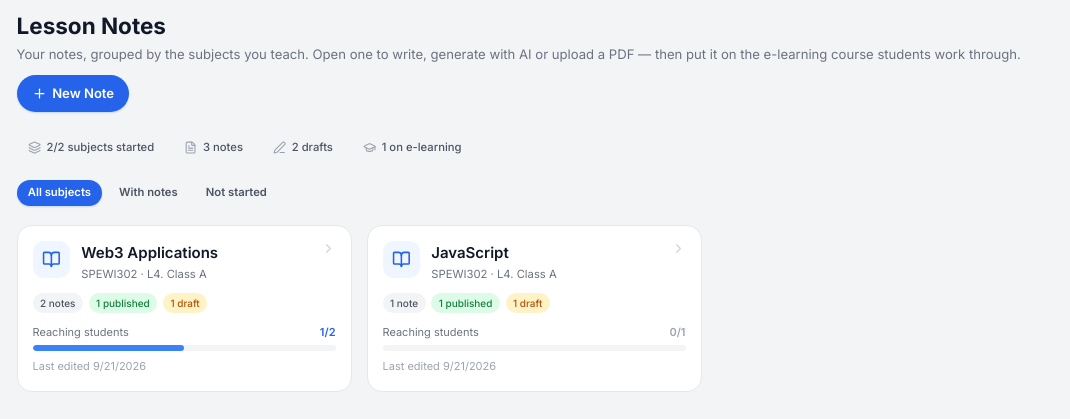
Test: LessonNotesListPage — subject-first browsing and e-learning linkage › says whether placed notes actually reach students, and why not
Click the heading "Web3 Applications" at (150, 252), box x1=81 y1=243 x2=218 y2=262
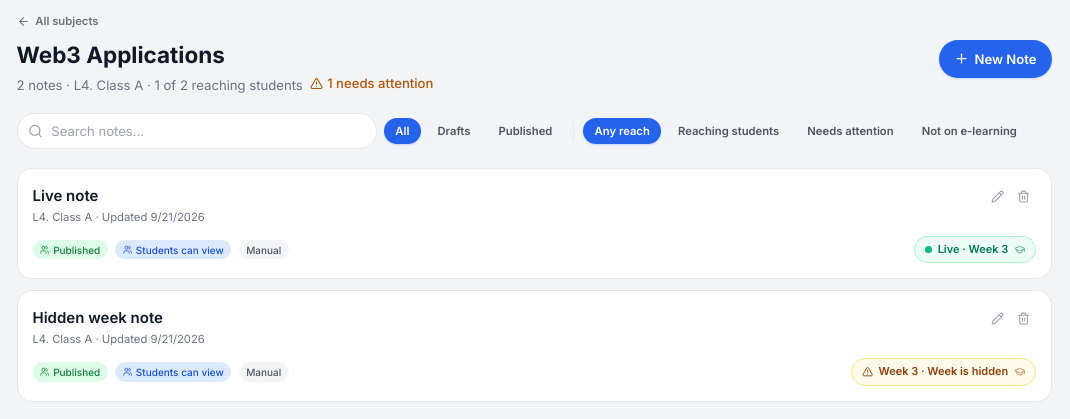
Now the button "Live note" is shown, box x1=32 y1=184 x2=98 y2=208
Now the text "Live · Week 3" is shown, box x1=938 y1=241 x2=1008 y2=258
Now the text "Week 3 · Week is hidden" is shown, box x1=878 y1=363 x2=1008 y2=381
